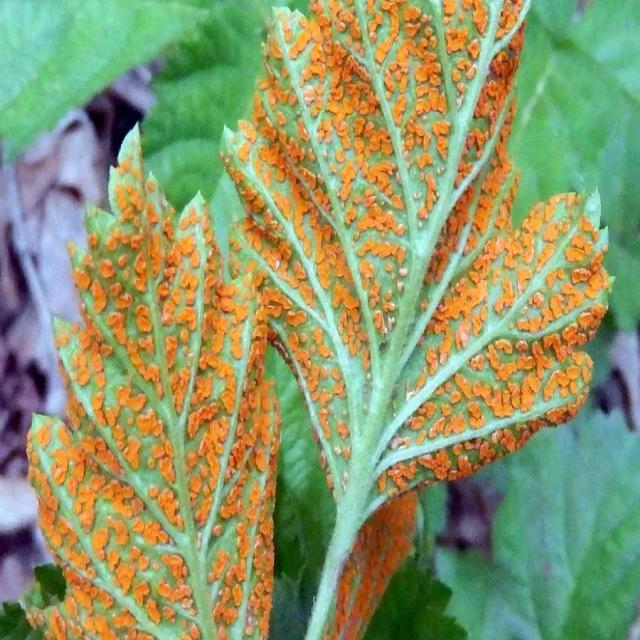leaf_rust: (223, 0, 609, 639), (23, 127, 278, 639)
